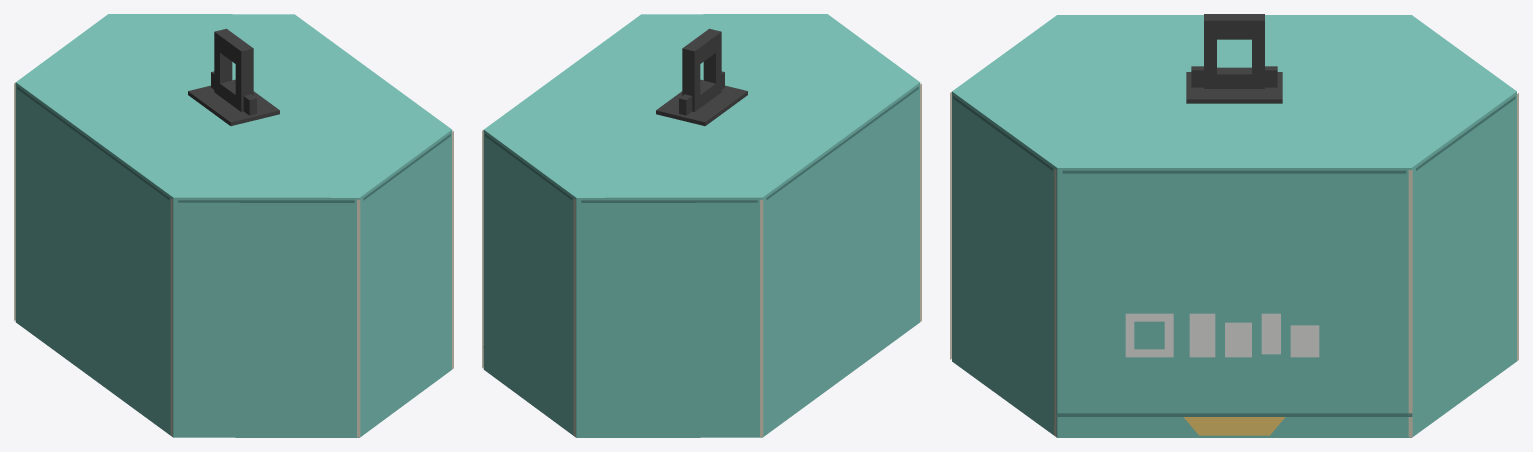
Rendered from package.glb.
The picture shows the model from 3 angles, left to right: view 1: azimuth 30°, elevation 25°; view 2: azimuth 150°, elevation 25°; view 3: azimuth 270°, elevation 25°; orthographic projection. The views are drawn at different scales.
Visible parts, largest first — view 1: body, handle, edge, seam; view 2: body, handle, edge, seam; view 3: body, handle, print, seam, edge, liner.
Boxes of the visible parts, x1=… form: body: x1=15, y1=14, x2=452, y2=437; handle: x1=188, y1=28, x2=279, y2=125; edge: x1=14, y1=82, x2=453, y2=437; seam: x1=17, y1=86, x2=450, y2=202; body: x1=483, y1=14, x2=920, y2=437; handle: x1=656, y1=28, x2=747, y2=125; edge: x1=482, y1=83, x2=921, y2=436; seam: x1=483, y1=86, x2=918, y2=347; body: x1=952, y1=15, x2=1516, y2=437; handle: x1=1186, y1=14, x2=1282, y2=103; print: x1=1125, y1=313, x2=1319, y2=357; seam: x1=953, y1=96, x2=1515, y2=416; edge: x1=950, y1=92, x2=1518, y2=437; liner: x1=1183, y1=417, x2=1285, y2=435.
Size of the model in its own units: 0.228 by 0.2383 by 0.355.
